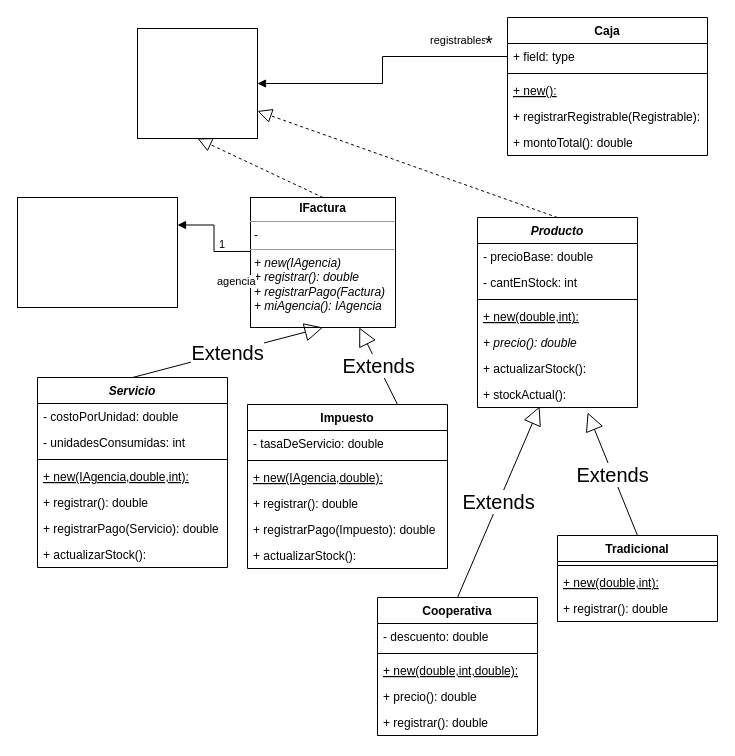
Image size: 735x756. Some labels were removed from this diagram. Here are the shapes that lost their labels. From the top down, the centre of each, then its label:
At point 197,83: "<<Interface>> IRegistrable - + registrar(): double + actualizarStock():".
At point 97,252: "<<Interface>> IAgencia - + registrarPago(Factura)".
